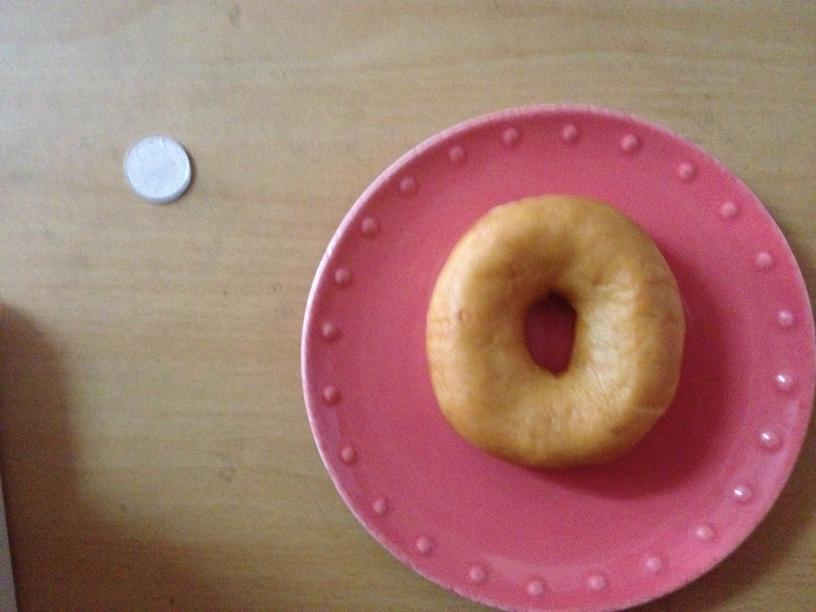coin: (120, 136, 193, 201)
doughnut: (427, 197, 686, 468)
